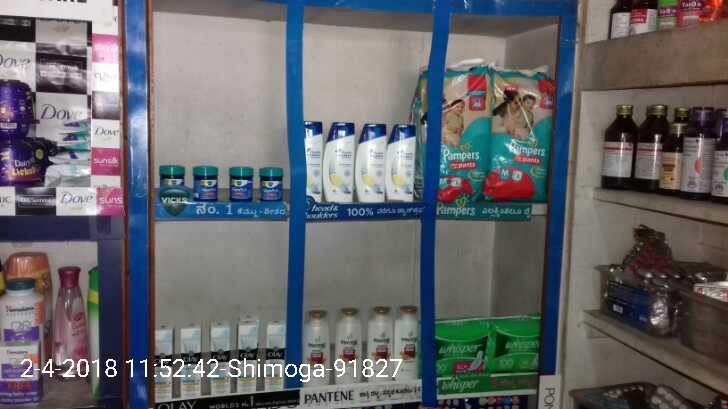vicks: (158, 167, 194, 202), (194, 167, 229, 202), (229, 167, 258, 201), (258, 168, 284, 201)
